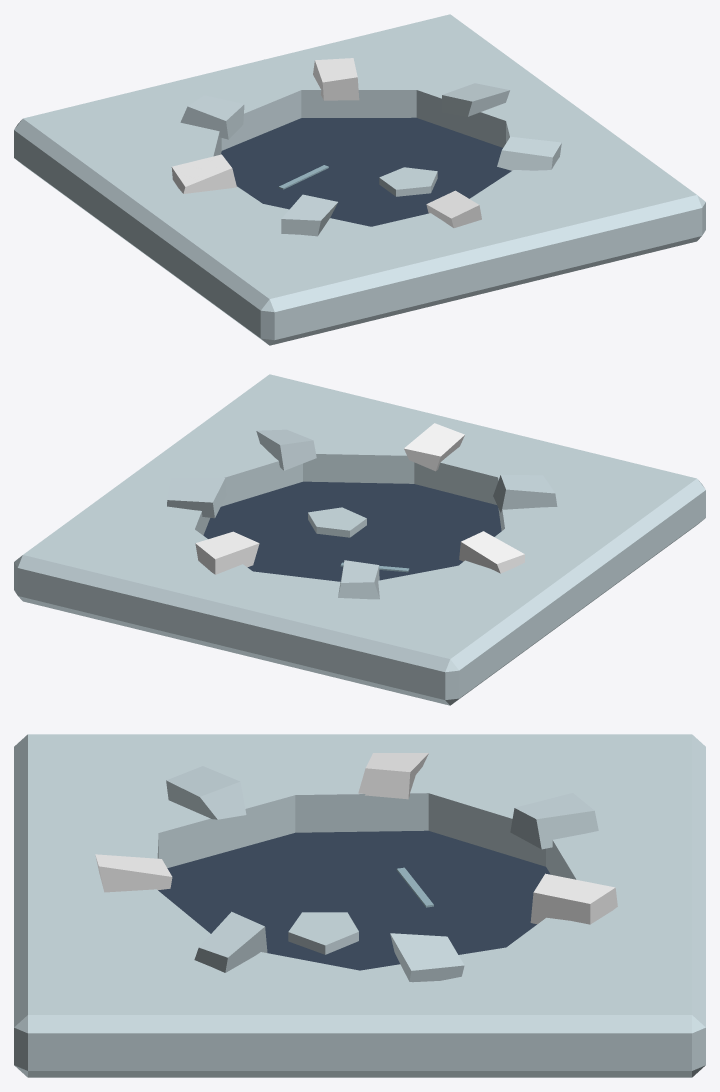
The model's file is sb_water_hole.glb.
3 views of the same model, one above another, from view 1: azimuth 30°, elevation 25°; view 2: azimuth 150°, elevation 25°; view 3: azimuth 270°, elevation 25° (orthographic). The views are drawn at different scales.
Parts seen in each view (by area): view 1: water_hole; view 2: water_hole; view 3: water_hole.
Part boxes in pixels (left/top/right/bottom): water_hole: left=14, top=14, right=705, bottom=345; water_hole: left=14, top=374, right=705, bottom=705; water_hole: left=14, top=734, right=705, bottom=1077.
Size of the model in its own units: 1 by 0.1419 by 1.
